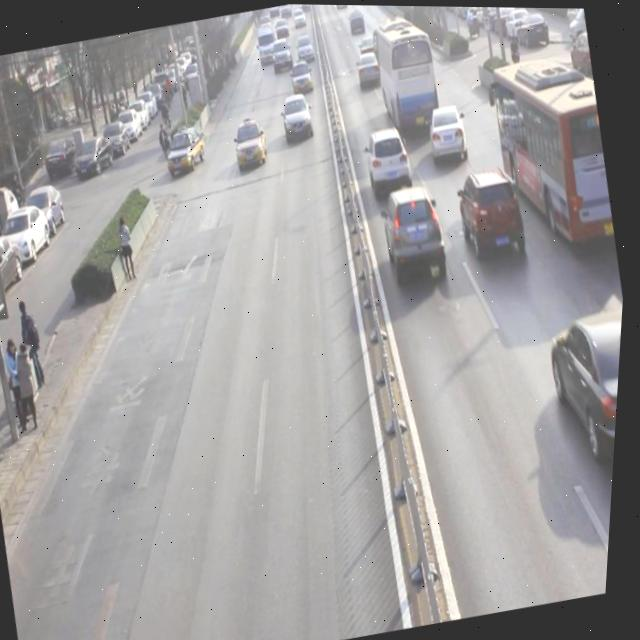car: (536, 301, 626, 478), (451, 161, 538, 273), (376, 179, 459, 287), (361, 122, 421, 200), (424, 101, 475, 167), (163, 127, 212, 182), (231, 116, 274, 173), (278, 93, 321, 147), (355, 51, 387, 94), (288, 58, 319, 102), (270, 37, 297, 73), (294, 29, 318, 63)
truck: (253, 25, 283, 67)
van: (480, 43, 626, 254), (366, 13, 446, 130)
